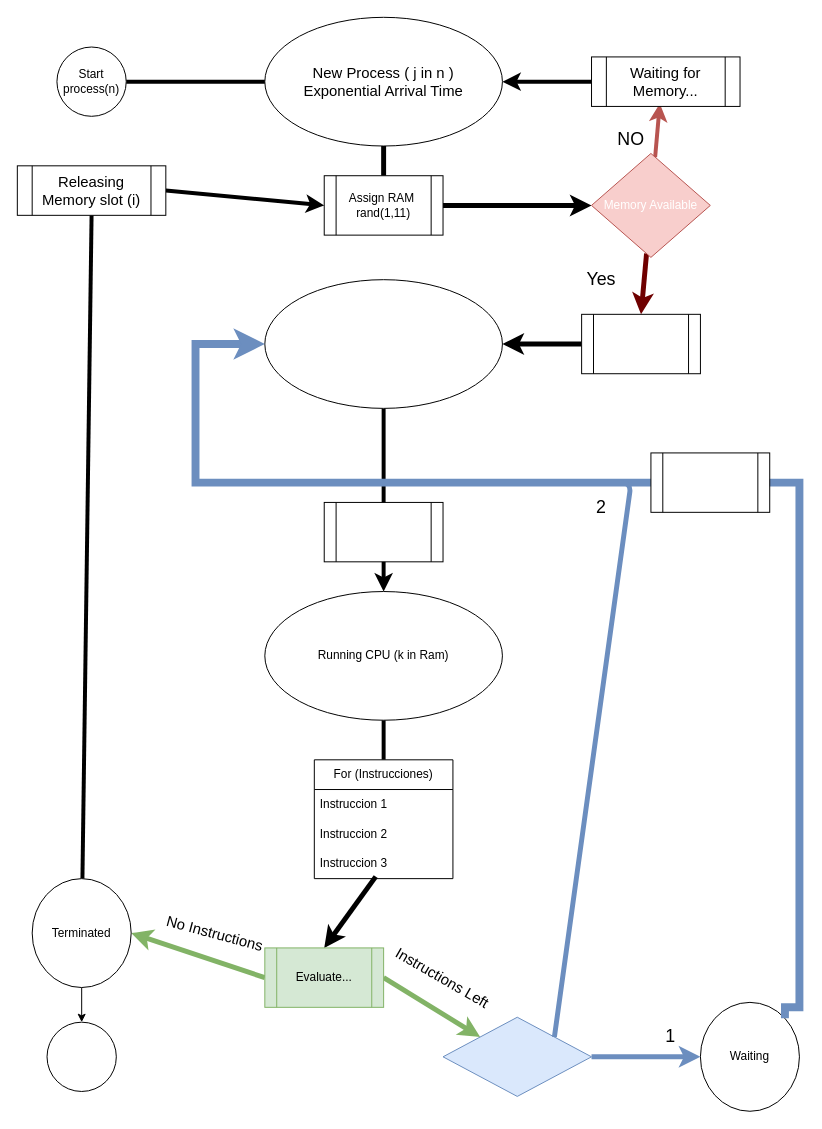
Some shapes in this 822 by 1129 pixel diagram are drawn without their labels. Each missing label, with the centre of its shape:
Assign rand(1,2): (517,1056)
EXIT: (81,1056)
I/O Operations: (710,482)
Ready: (383,343)
Request CPU: (383,531)
select RAM range(1,11): (640,343)
